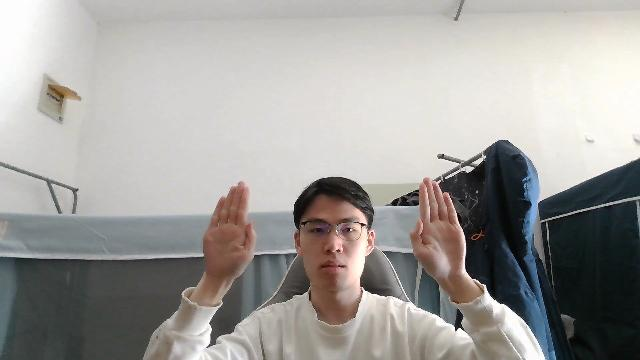five: (408, 172, 469, 284), (198, 178, 258, 285)
